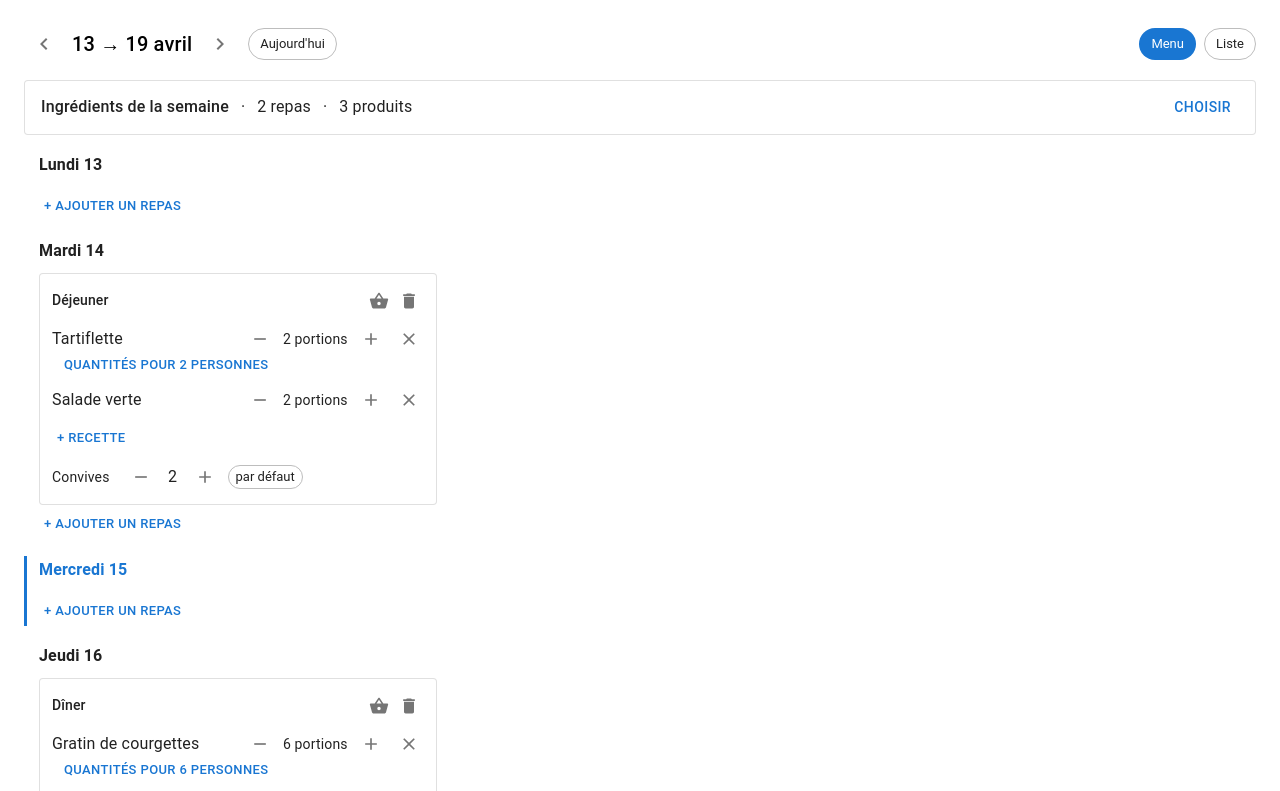
Scenario: MealsPage — one page, two views of the same week › toggles to the Liste view: the same week as chronological rows
Expected: the element with test id "meal-01LUNCH" is shown, [39,273,437,505]
Click the button "Liste".
click(1230, 44)  # box [1204,28,1256,60]
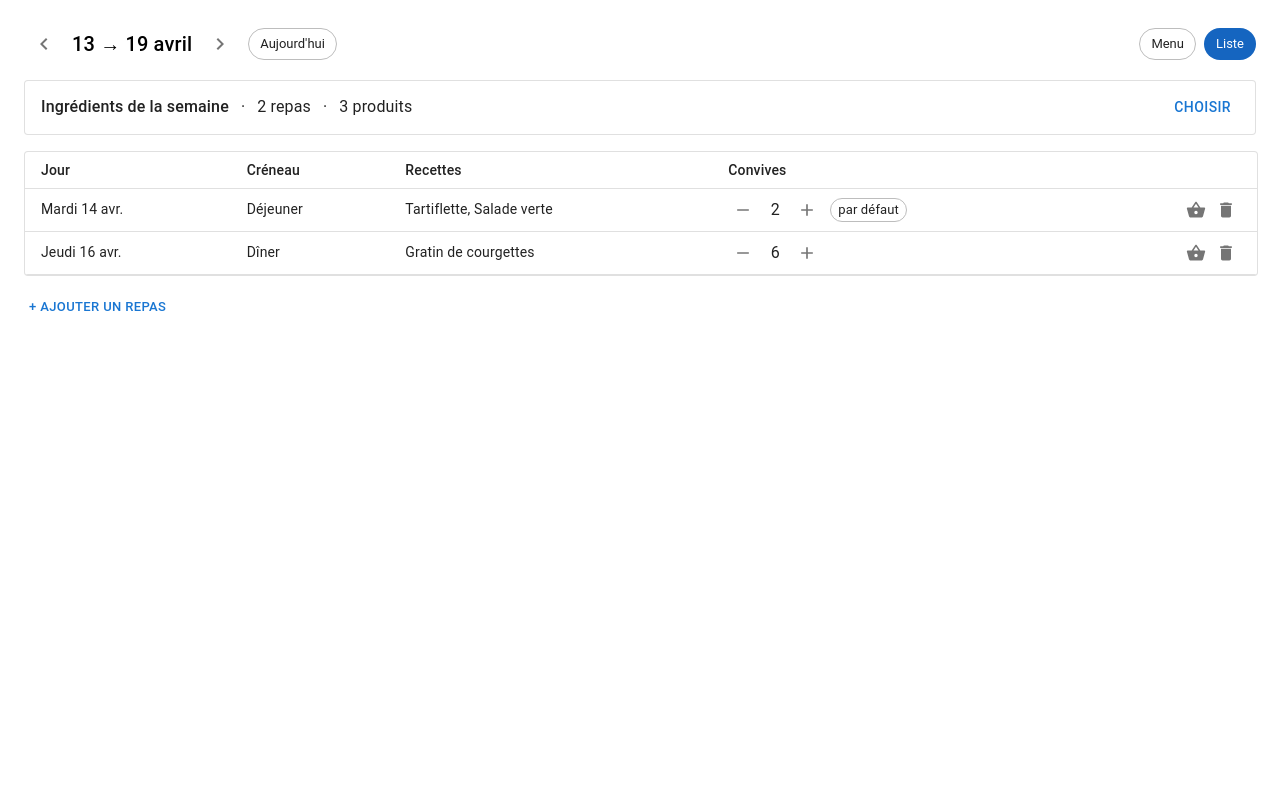
Expected: the text "Mardi 14 avr." is shown, [25,188,231,231]
Expected: the text "Tartiflette, Salade verte" is shown, [389,188,712,231]
Expected: the text "Jeudi 16 avr." is shown, [25,231,231,274]
Click the button "Menu".
click(1168, 44)  # box [1139,28,1196,60]
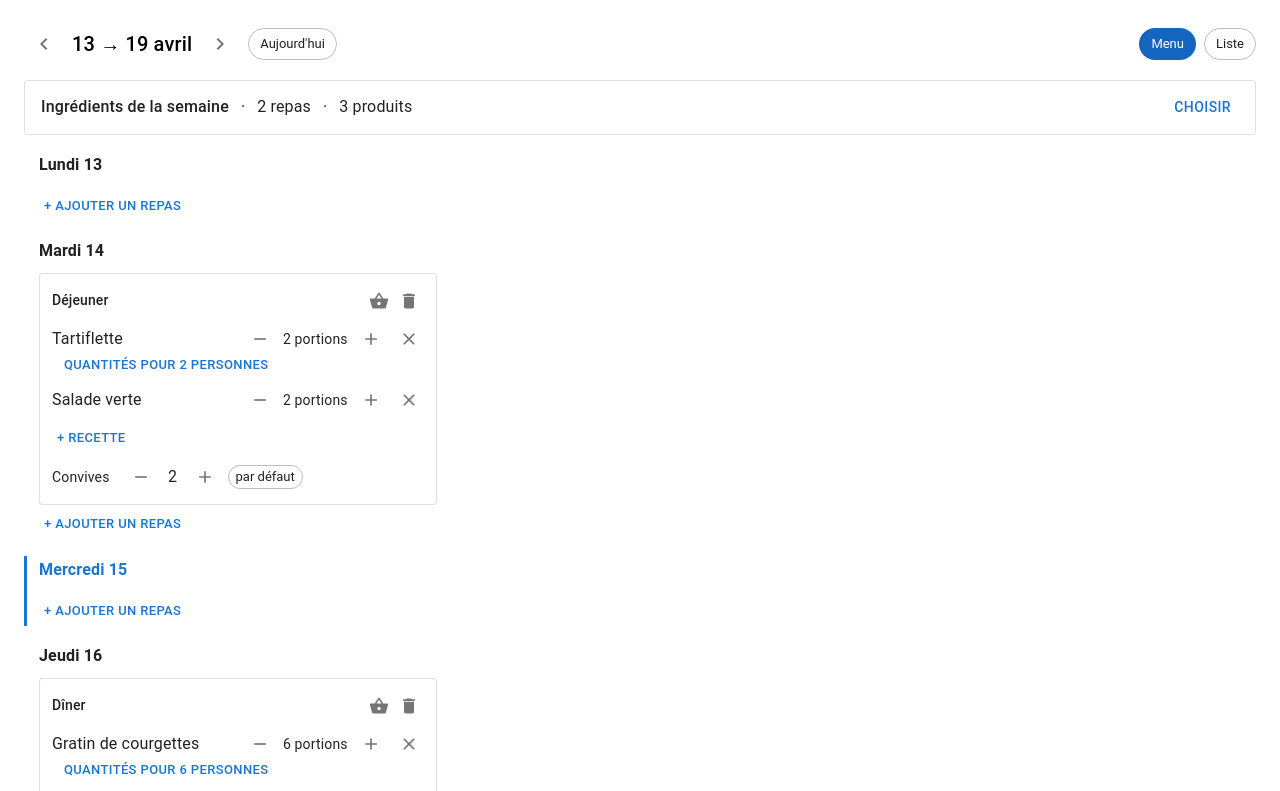
Expected: the element with test id "meal-day-2" is shown, [24,556,1256,626]
